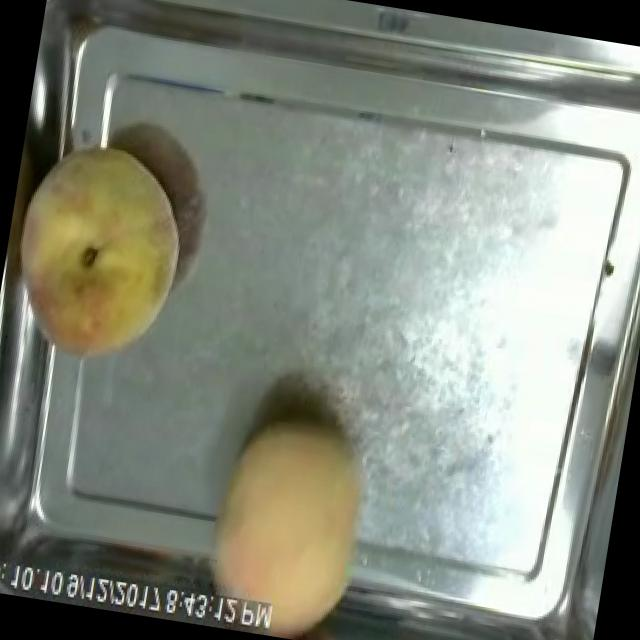Fruit: (0, 125, 206, 381), (185, 397, 389, 640)
